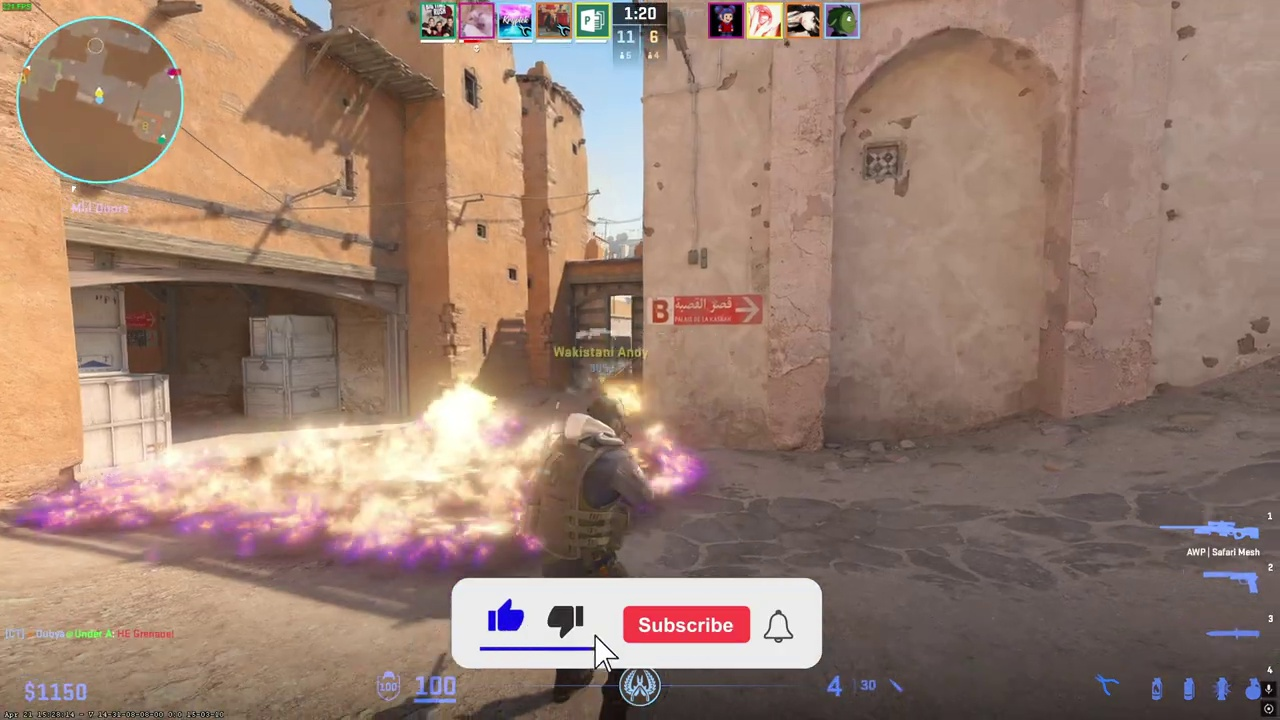CT: (534, 395, 651, 575)
